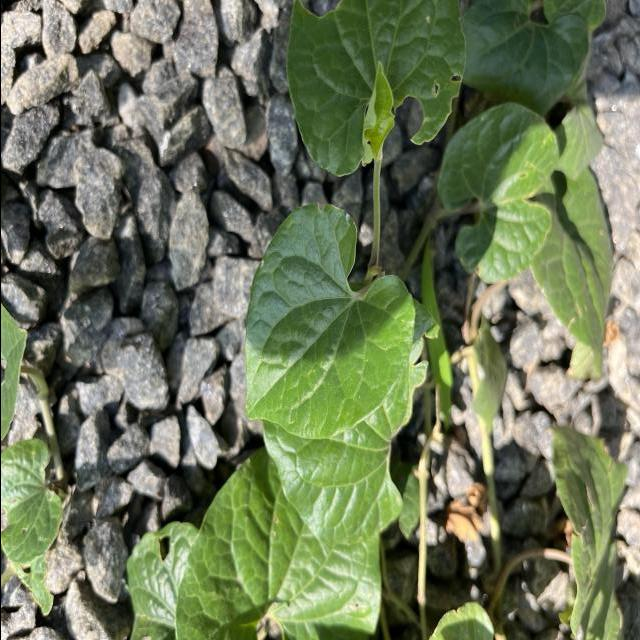Piper longum: (240, 198, 417, 444)
